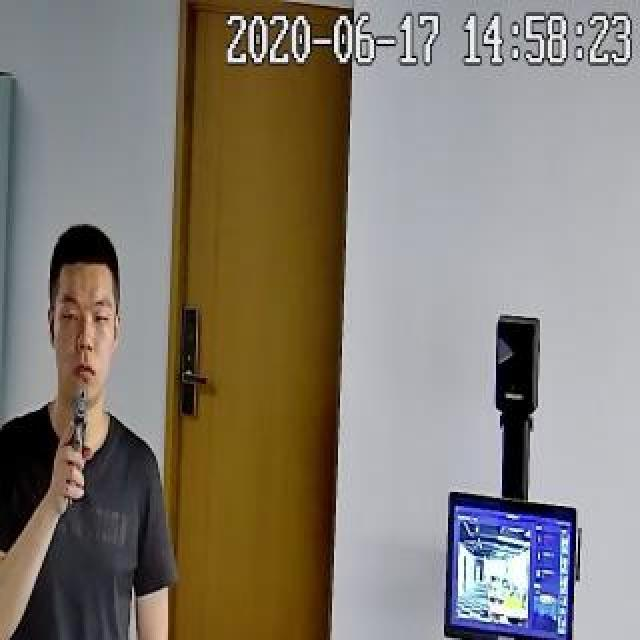Guns: (59, 379, 106, 495)
